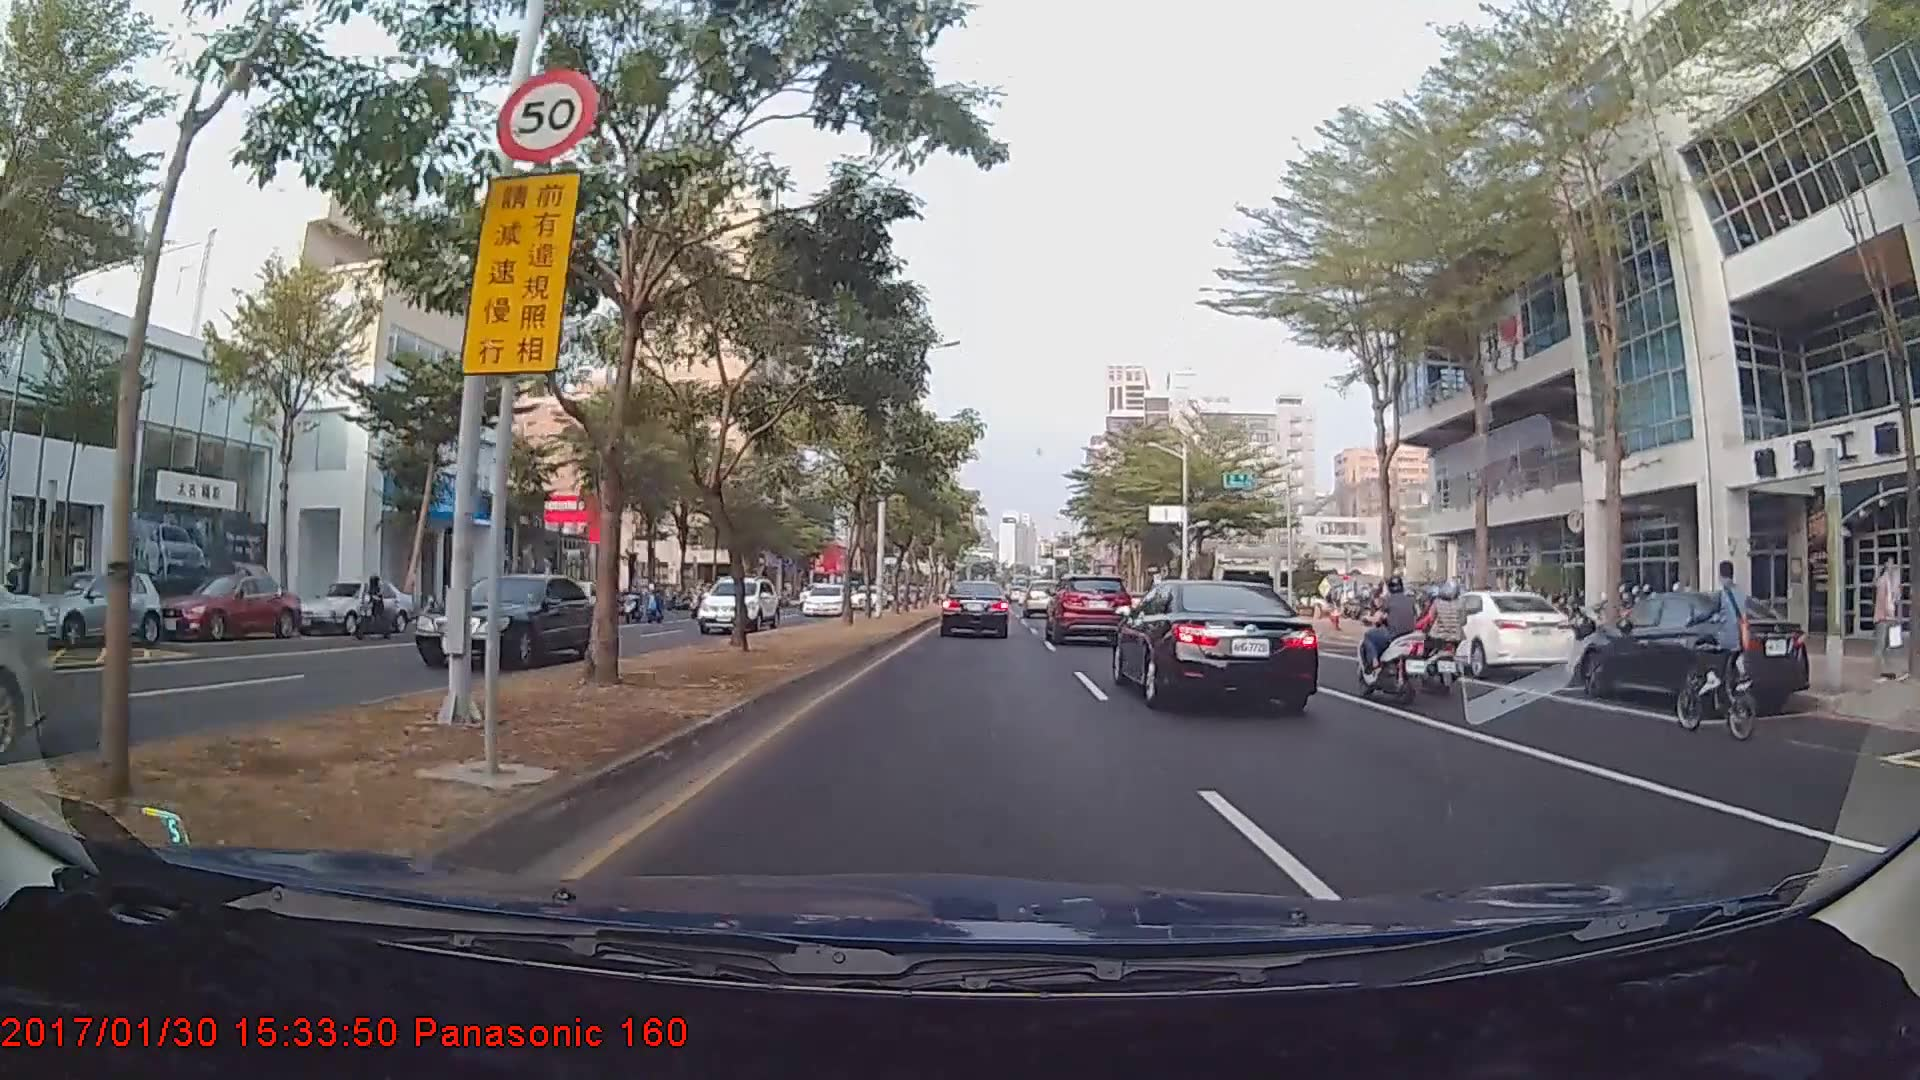pedestrian: (1874, 558, 1904, 684)
rider: (1662, 567, 1782, 752), (1355, 572, 1442, 711), (1416, 578, 1477, 690)
vehicle: (1584, 585, 1813, 718), (1112, 572, 1319, 714), (411, 567, 607, 671), (1419, 587, 1573, 678), (152, 571, 302, 639), (33, 570, 160, 646), (295, 578, 411, 637), (1045, 574, 1127, 645), (694, 574, 780, 634), (940, 578, 1010, 639), (800, 580, 847, 618), (1023, 580, 1054, 618)
